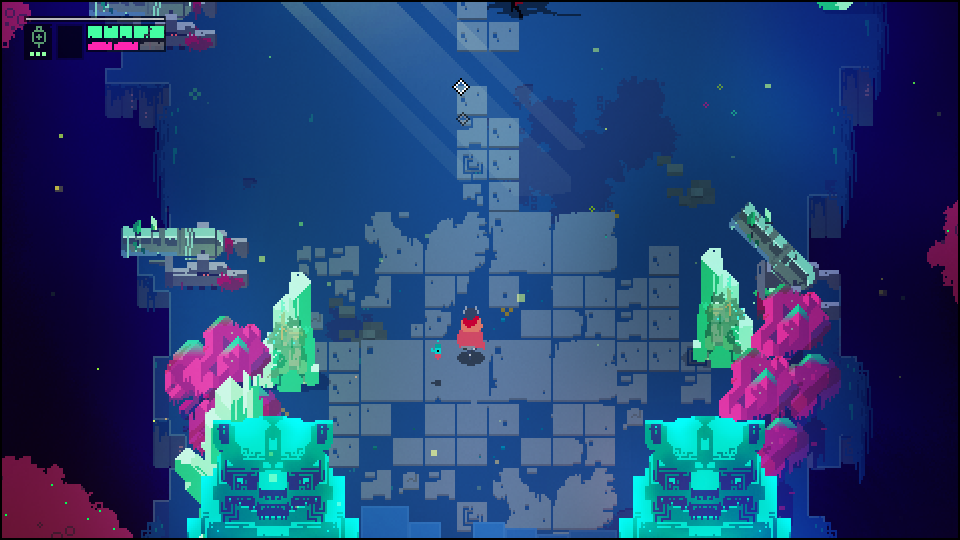player: (456, 304, 485, 367)
